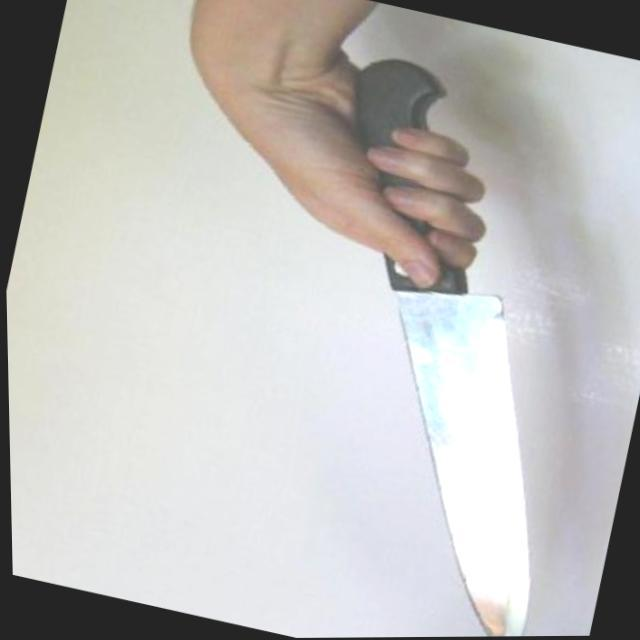knife: (234, 49, 640, 638)
